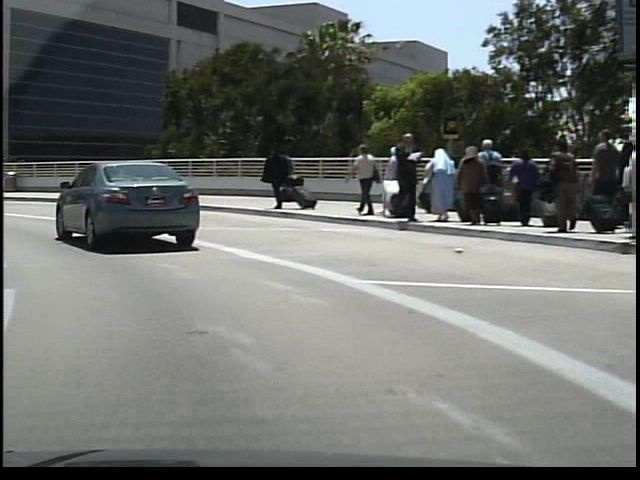person: (386, 129, 421, 225), (343, 139, 378, 219), (257, 144, 290, 210), (277, 152, 297, 204)
